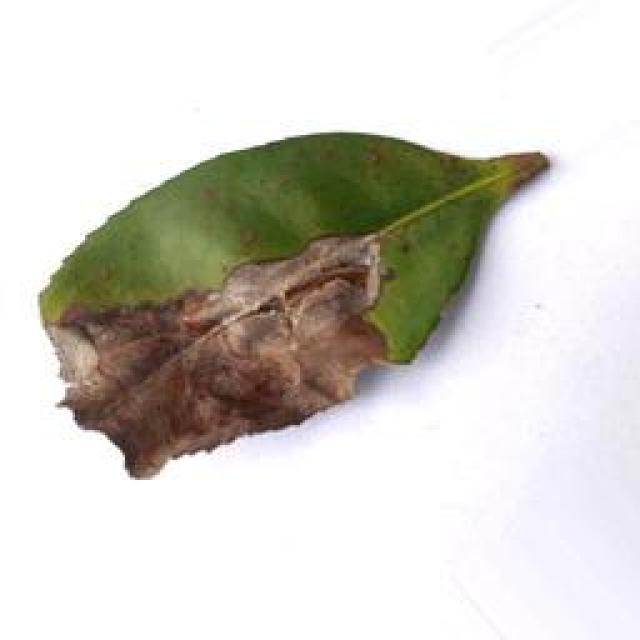Brown Blight: (33, 118, 556, 478)
